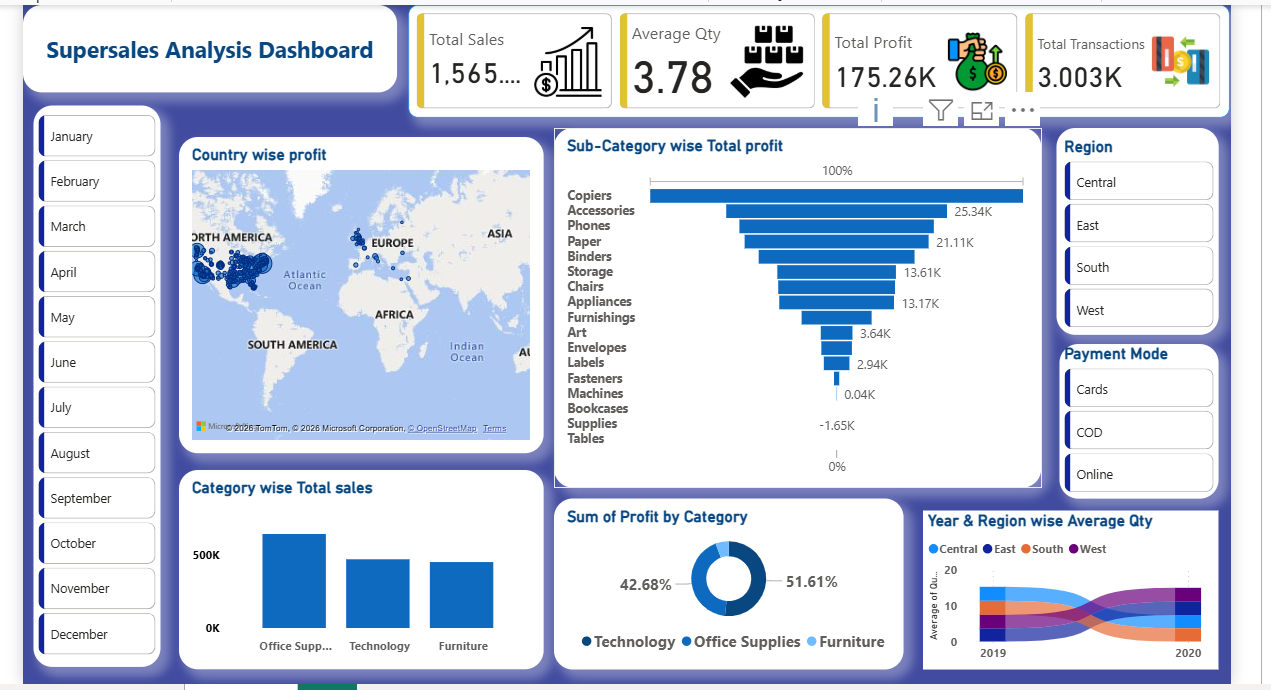

The page's visual inventory and layout, read from the dashboard file:
{"tool":"powerbi","page":{"name":"Page 1","canvas":[1280,720],"ordinal":0},"visuals":[{"type":"shape","box":[10.6,106,134.8,595.1],"z":0},{"type":"cardVisual","fields":{"Data":["Sum(SuperStore_Sales_Dataset.Sales)","Avg(SuperStore_Sales_Dataset.Quantity)","Sum(SuperStore_Sales_Dataset.Profit)","Count(SuperStore_Sales_Dataset.Order ID)"]},"box":[408.8,0,870.7,119.6],"z":1000},{"type":"shape","box":[0,0,396.7,92.4],"z":2000},{"type":"advancedSlicerVisual","fields":{"Values":["SuperStore_Sales_Dataset.Order Date.Variation.Date Hierarchy.Month"]},"box":[10.6,112.1,134.8,589],"z":3000},{"type":"clusteredColumnChart","title":"Category wise Total sales","fields":{"Category":["SuperStore_Sales_Dataset.Category"],"Y":["Sum(SuperStore_Sales_Dataset.Sales)"]},"box":[165.4,493.1,386.5,211.6],"z":4000},{"type":"funnel","title":"Sub-Category wise Total profit","fields":{"Category":["SuperStore_Sales_Dataset.Sub-Category"],"Y":["Sum(SuperStore_Sales_Dataset.Profit)"]},"box":[563.3,130.2,516.3,381.6],"z":5000},{"type":"map","title":"Country wise profit","fields":{"Category":["SuperStore_Sales_Dataset.City"],"Size":["Sum(SuperStore_Sales_Dataset.Sales)"]},"box":[165.4,140,386.5,335.6],"z":6000},{"type":"shape","box":[1095.9,130.4,171.8,219.5],"z":7000},{"type":"advancedSlicerVisual","fields":{"Values":["SuperStore_Sales_Dataset.Region"]},"box":[1099.1,140,168.6,210],"z":8000},{"type":"shape","box":[1099.1,359.5,168.6,163.8],"z":9000},{"type":"advancedSlicerVisual","fields":{"Values":["SuperStore_Sales_Dataset.Payment Mode"]},"box":[1099.1,359.5,168.6,163.8],"z":10000},{"type":"donutChart","fields":{"Y":["Sum(SuperStore_Sales_Dataset.Profit)"],"Category":["SuperStore_Sales_Dataset.Category"]},"box":[563.1,523.3,370.6,181.3],"z":11000},{"type":"ribbonChart","title":"Year & Region wise Average Qty","fields":{"Category":["SuperStore_Sales_Dataset.Order Date.Variation.Date Hierarchy.Year"],"Y":["Avg(SuperStore_Sales_Dataset.Quantity)"],"Series":["SuperStore_Sales_Dataset.Region"]},"box":[954.4,536,313.4,168.6],"z":12000}]}

Visuals, with their boxes in screenshot pixels (x1, y1, x2, y2):
shape: 33 100 160 661
cardVisual - Sum(SuperStore_Sales_Dataset.Sales) x Avg(SuperStore_Sales_Dataset.Quantity): 409 0 1230 113
shape: 23 0 397 87
advancedSlicerVisual - SuperStore_Sales_Dataset.Order Date.Variation.Date Hierarchy.Month: 33 106 160 661
"Category wise Total sales" clusteredColumnChart: 179 465 544 665
"Sub-Category wise Total profit" funnel: 554 123 1041 483
"Country wise profit" map: 179 132 544 448
shape: 1057 123 1219 330
advancedSlicerVisual - SuperStore_Sales_Dataset.Region: 1060 132 1219 330
shape: 1060 339 1219 493
advancedSlicerVisual - SuperStore_Sales_Dataset.Payment Mode: 1060 339 1219 493
donutChart - Sum(SuperStore_Sales_Dataset.Profit) x SuperStore_Sales_Dataset.Category: 554 493 904 664
"Year & Region wise Average Qty" ribbonChart: 923 505 1219 664
